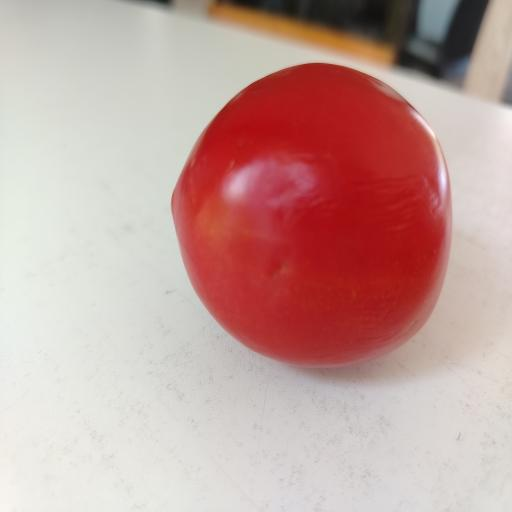overipe: (172, 64, 451, 366)
